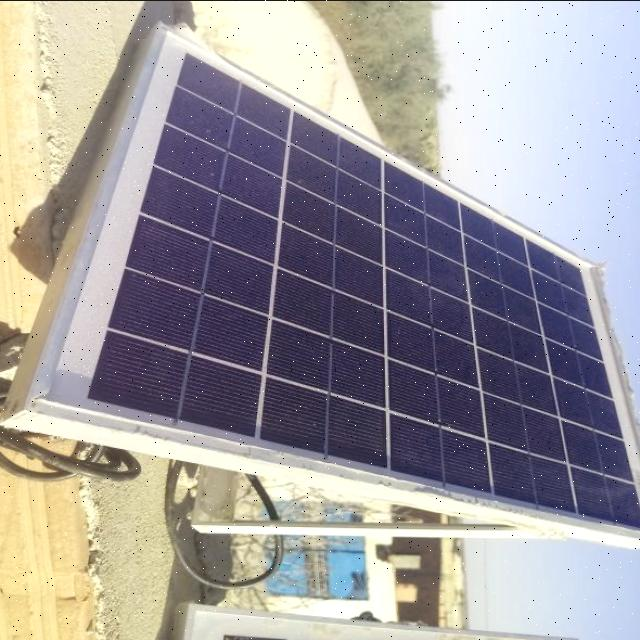Normal Solar Panel: (28, 24, 640, 540)
